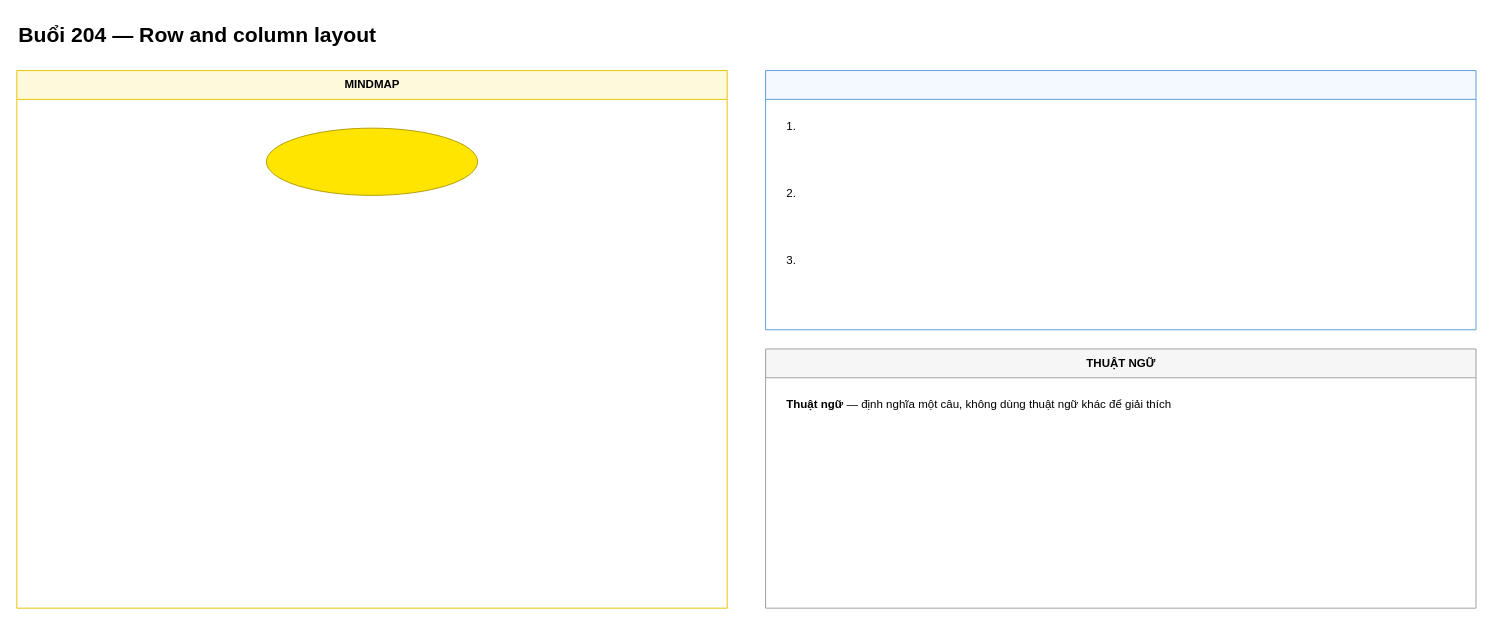
The diagram is 1493 pixels wide and 625 high, and some of its shapes have lost their labels. The shapes that lost their labels are listed below. From the top down, each one's box as (x1, y1, x2, y2) in pixels, then its label:
(265, 127, 478, 195): Row and column layout
(765, 70, 1476, 330): KEY TAKEAWAY — ba điều phải nhớ
